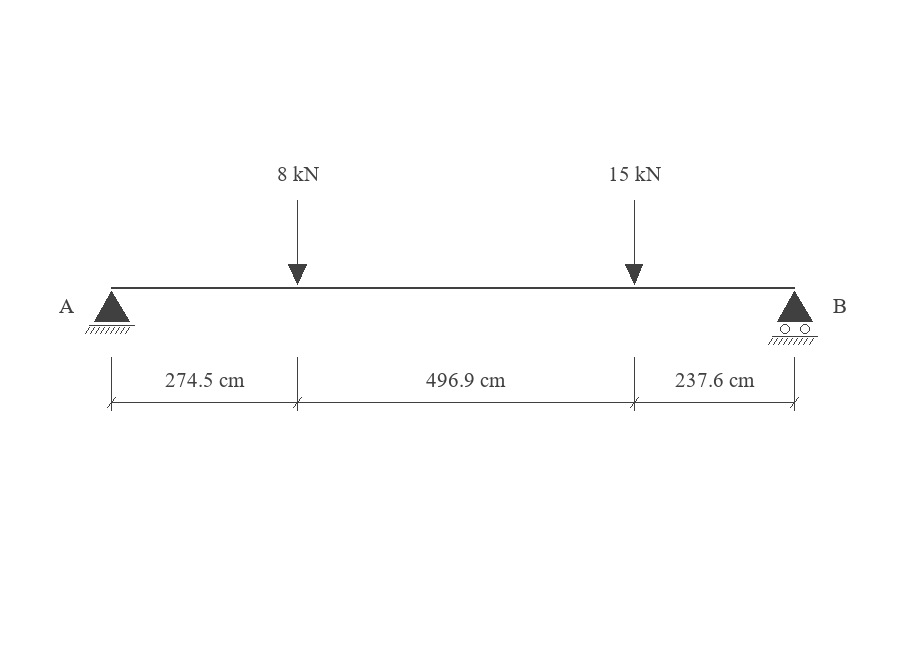pin_support: (85, 291, 135, 334)
point_load: (288, 200, 307, 285), (625, 200, 643, 285)
roller_support: (768, 291, 818, 345)
